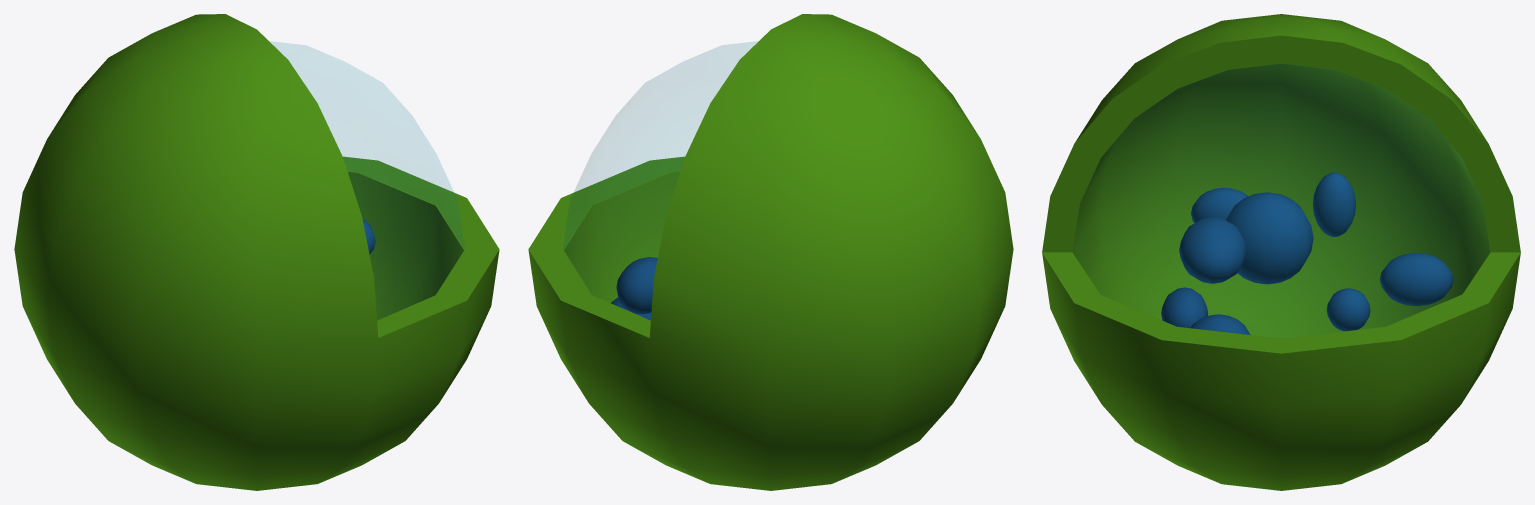
File: Lysosome.FBX
3 views of the same model, side by side, from view 1: azimuth 30°, elevation 25°; view 2: azimuth 150°, elevation 25°; view 3: azimuth 270°, elevation 25° (orthographic).
Parts seen in each view (by area): view 1: Membrane_Lysosome_Cell, Lysosome_Cell_Hydrolytic_Enzyme; view 2: Membrane_Lysosome_Cell, Lysosome_Cell_Hydrolytic_Enzyme, Lysosome_Cell_Enzyme_Sphere; view 3: Membrane_Lysosome_Cell, Lysosome_Cell_Enzyme_Sphere6, Lysosome_Cell_Enzyme_Sphere4, Lysosome_Cell_Enzyme_Sphere, Lysosome_Cell_Enzyme_Sphere1, Lysosome_Cell_Enzyme_Sphere8, Lysosome_Cell_Enzyme_Sphere9, Lysosome_Cell_Enzyme_Sphere3, Lysosome_Cell_Enzyme_Sphere2.
Part boxes in pixels (<box>): Membrane_Lysosome_Cell: <box>14,14,499,490</box>; Lysosome_Cell_Hydrolytic_Enzyme: <box>271,42,464,248</box>; Membrane_Lysosome_Cell: <box>528,14,1013,490</box>; Lysosome_Cell_Hydrolytic_Enzyme: <box>563,42,756,248</box>; Lysosome_Cell_Enzyme_Sphere: <box>616,257,657,314</box>; Membrane_Lysosome_Cell: <box>1042,14,1520,490</box>; Lysosome_Cell_Enzyme_Sphere6: <box>1226,192,1313,284</box>; Lysosome_Cell_Enzyme_Sphere4: <box>1179,217,1246,283</box>; Lysosome_Cell_Enzyme_Sphere: <box>1379,253,1453,306</box>; Lysosome_Cell_Enzyme_Sphere1: <box>1312,172,1355,236</box>; Lysosome_Cell_Enzyme_Sphere8: <box>1326,288,1370,331</box>; Lysosome_Cell_Enzyme_Sphere9: <box>1161,287,1208,327</box>; Lysosome_Cell_Enzyme_Sphere3: <box>1191,188,1247,222</box>; Lysosome_Cell_Enzyme_Sphere2: <box>1190,314,1250,334</box>.
Bounding box in the file's own units: 10 × 10 × 10.
